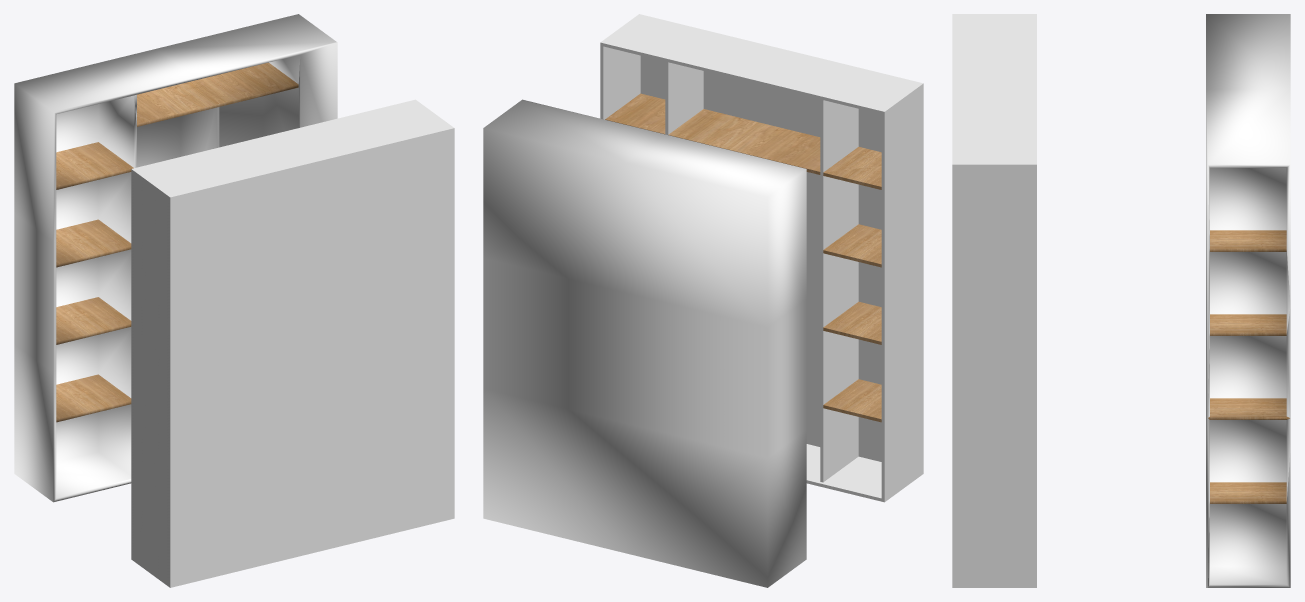
File: kast_kastm.gltf
3 renders of one model, left to right at view 1: azimuth 30°, elevation 25°; view 2: azimuth 150°, elevation 25°; view 3: azimuth 270°, elevation 25°, orthographic. The views are drawn at different scales.
Visible parts, largest first — view 1: kast_kastm; view 2: kast_kastm; view 3: kast_kastm.
Boxes of the visible parts, <box> form: kast_kastm: <box>14,14,454,587</box>; kast_kastm: <box>483,14,923,587</box>; kast_kastm: <box>952,14,1290,587</box>.
Bounding box in the file's own units: 1685 × 2211 × 1600.
Materials: 4 (2 with a texture image).
